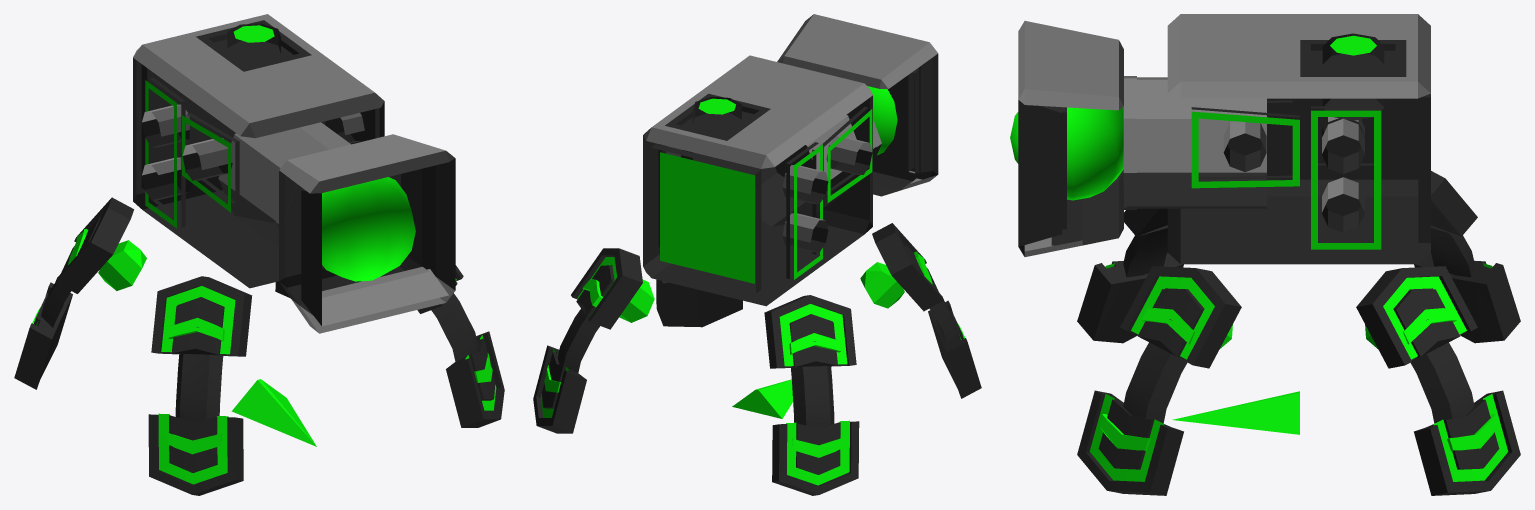
File: char_camera.fbx
The picture shows the model from 3 angles, left to right: view 1: azimuth 30°, elevation 25°; view 2: azimuth 150°, elevation 25°; view 3: azimuth 270°, elevation 25°; orthographic projection. The views are drawn at different scales.
Visible parts, largest first — view 1: Camera_body, leg1, leg3, leg2, ROOT; view 2: Camera_body, leg3, leg4, leg1, leg2, ROOT; view 3: Camera_body, leg2, leg4, leg3, leg1, ROOT.
Part boxes in pixels (x1,y1,x2,y2): Camera_body: (133, 14, 455, 333); leg1: (148, 276, 252, 495); leg3: (14, 197, 146, 389); leg2: (417, 265, 504, 427); ROOT: (231, 379, 316, 446); Camera_body: (643, 14, 938, 306); leg3: (764, 295, 859, 495); leg4: (533, 248, 654, 433); leg1: (860, 223, 981, 398); leg2: (656, 279, 742, 327); ROOT: (732, 379, 792, 418); Camera_body: (1010, 14, 1430, 264); leg2: (1077, 266, 1241, 495); leg4: (1356, 266, 1520, 495); leg3: (1414, 171, 1520, 343); leg1: (1077, 208, 1183, 343); ROOT: (1172, 391, 1299, 434).
Bounding box in the file's own units: 327 × 306 × 368.
